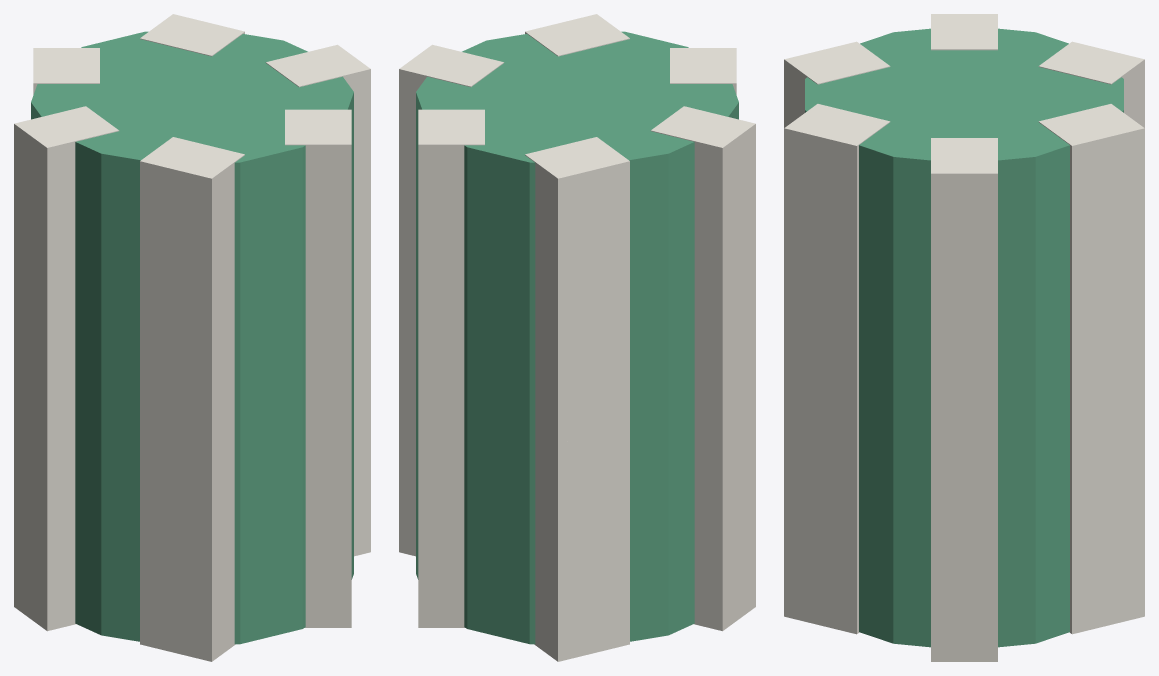
File: casino-floor-and-back-rooms-chip-stack-green-e88c1e65__27026.glb
3 renders of one model, left to right at view 1: azimuth 30°, elevation 25°; view 2: azimuth 150°, elevation 25°; view 3: azimuth 270°, elevation 25°, orthographic.
Visible parts, largest first — view 1: chip-stack-green; view 2: chip-stack-green; view 3: chip-stack-green.
Boxes of the visible parts, <box> form: chip-stack-green: <box>14,14,370,661</box>; chip-stack-green: <box>399,14,755,661</box>; chip-stack-green: <box>784,14,1144,661</box>.
Size of the model in its own units: 0.045 by 0.0642 by 0.043.
